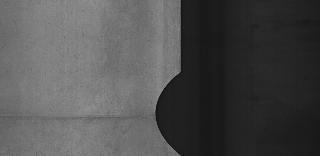welding line: (2, 110, 170, 124)
